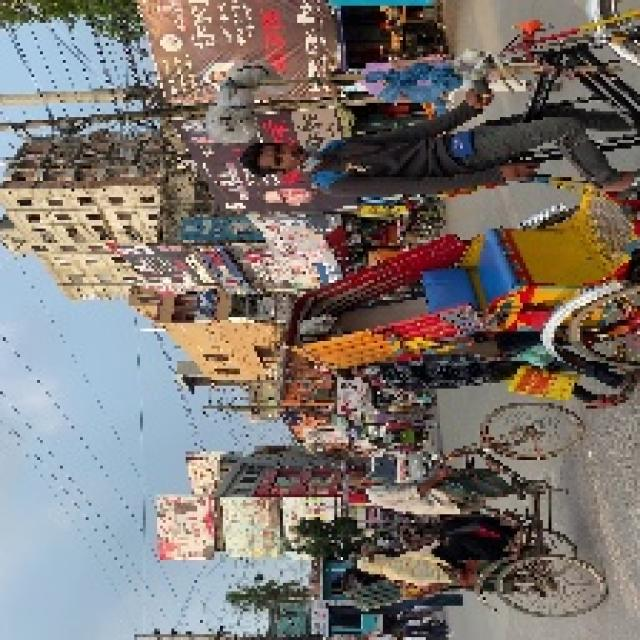rickshaw: (279, 3, 640, 391), (343, 401, 591, 622)
